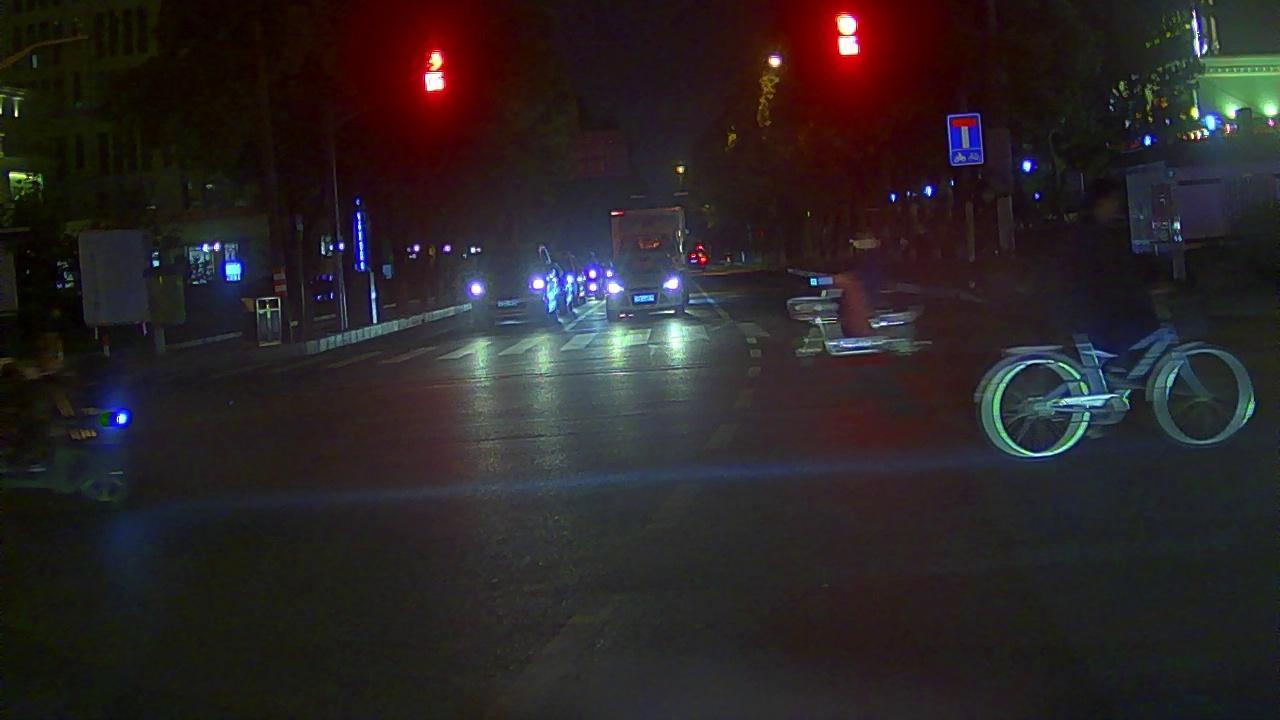traffic_light: (832, 3, 866, 70), (416, 45, 454, 102)
